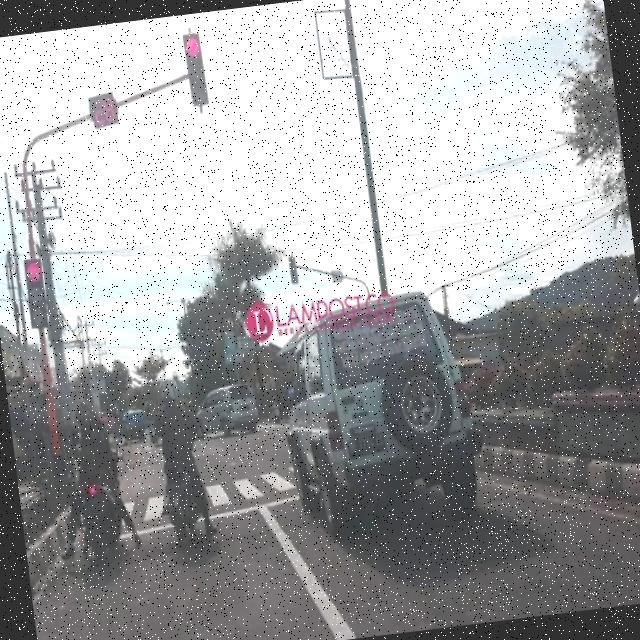Czerwone swiatlo: (182, 30, 208, 112), (27, 256, 48, 324)
